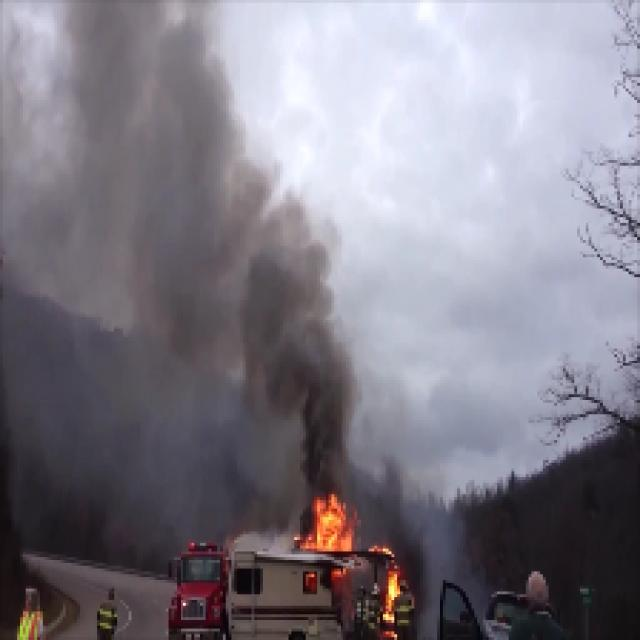fire: (313, 488, 348, 546)
smoke: (274, 283, 354, 471)
